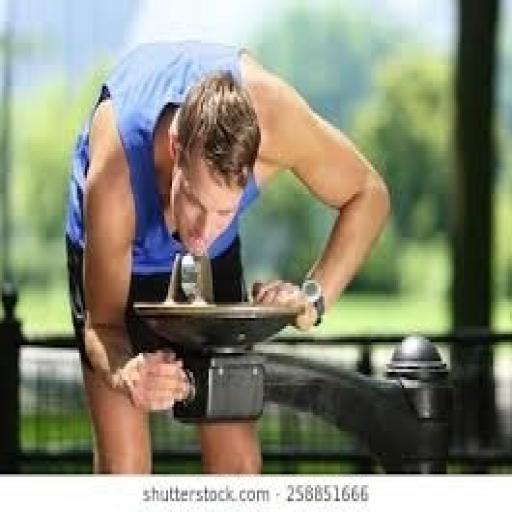drinking: (70, 53, 424, 414)
